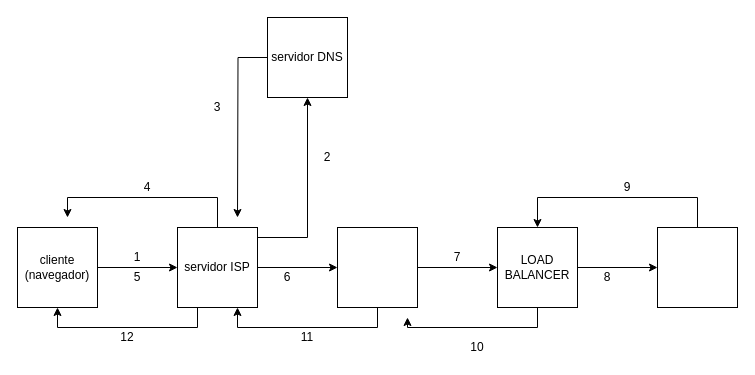
The diagram is 755 pixels wide and 375 high, and some of its shapes have lost their labels. Each missing label, with the centre of its shape:
GRUPO DE SERVIDORES: point (377, 267)
servidor da página requisitada: point (697, 267)
